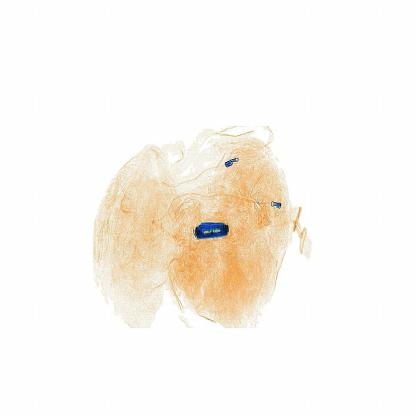scissors: (190, 213, 236, 246)
